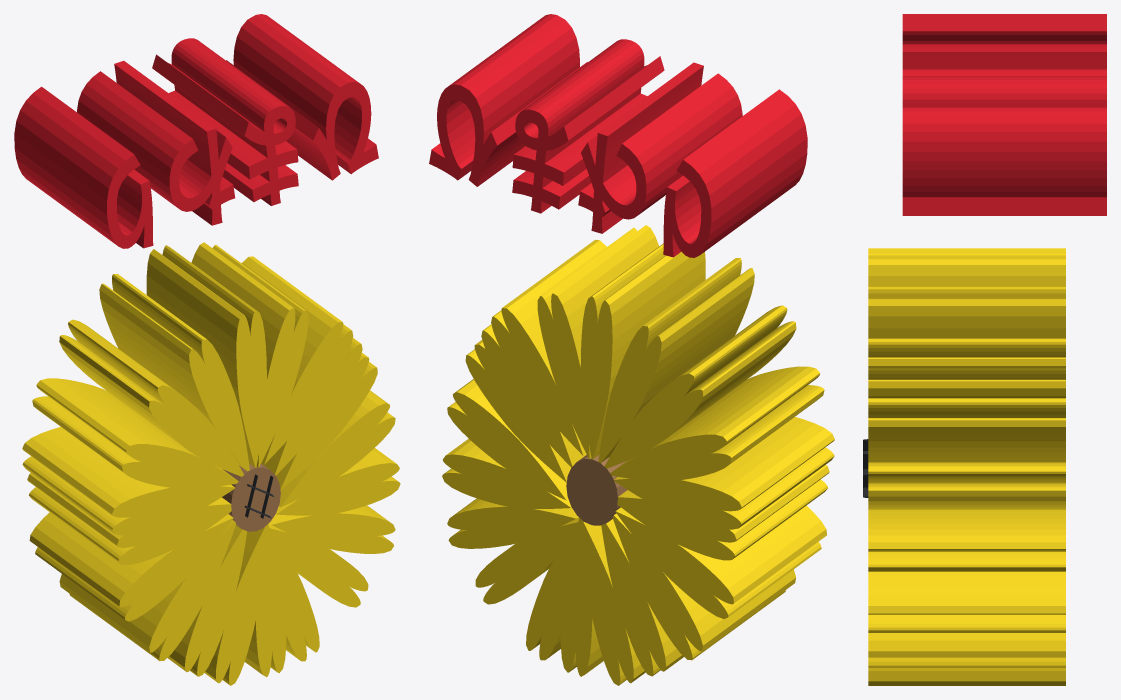
Rendered from tinker.obj.
3 renders of one model, left to right at view 1: azimuth 30°, elevation 25°; view 2: azimuth 150°, elevation 25°; view 3: azimuth 270°, elevation 25°, orthographic. The views are drawn at different scales.
Parts seen in each view (by area): view 1: group_0_16768282, group_0_15277357, group_0_11107152; view 2: group_0_16768282, group_0_15277357, group_0_11107152; view 3: group_0_16768282, group_0_15277357.
Part boxes in pixels (x1=…): group_0_16768282: x1=22, y1=242, x2=400, y2=685; group_0_15277357: x1=14, y1=14, x2=378, y2=248; group_0_11107152: x1=222, y1=463, x2=280, y2=531; group_0_16768282: x1=442, y1=225, x2=834, y2=685; group_0_15277357: x1=429, y1=14, x2=807, y2=257; group_0_11107152: x1=566, y1=455, x2=627, y2=525; group_0_16768282: x1=868, y1=248, x2=1065, y2=685; group_0_15277357: x1=902, y1=14, x2=1106, y2=215.
Bounding box in the file's own units: 27 × 50 × 17.92.
